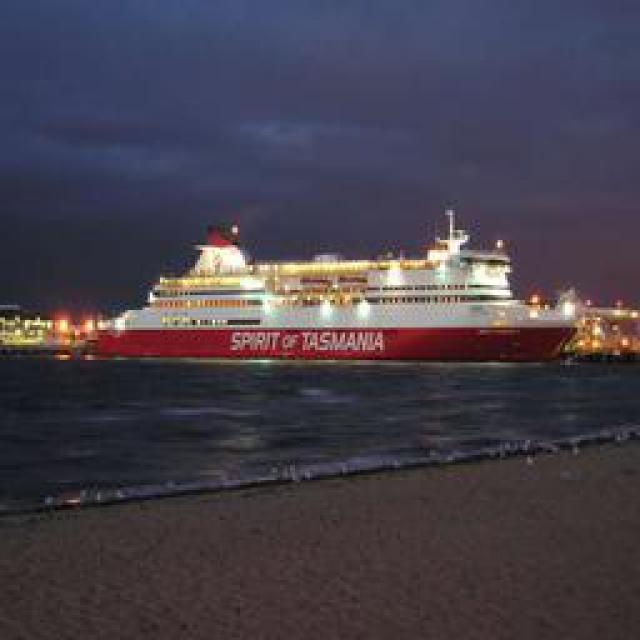Ship: (78, 210, 596, 368)
